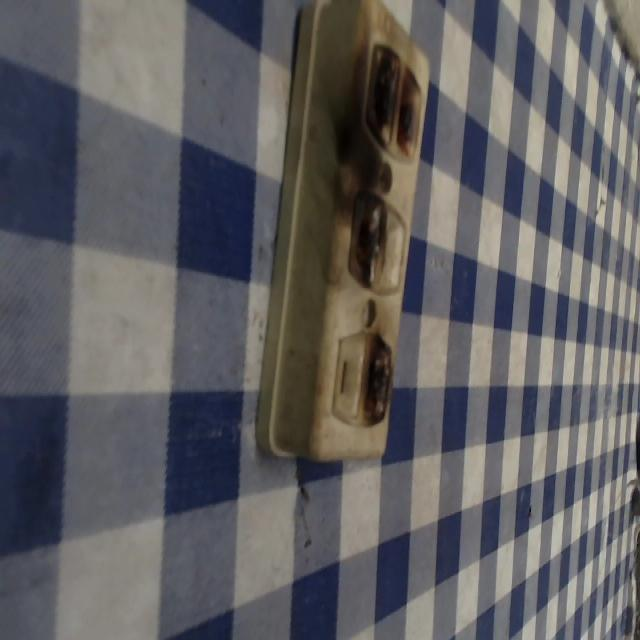-: (363, 37, 424, 162), (346, 184, 381, 288), (361, 326, 390, 426)
